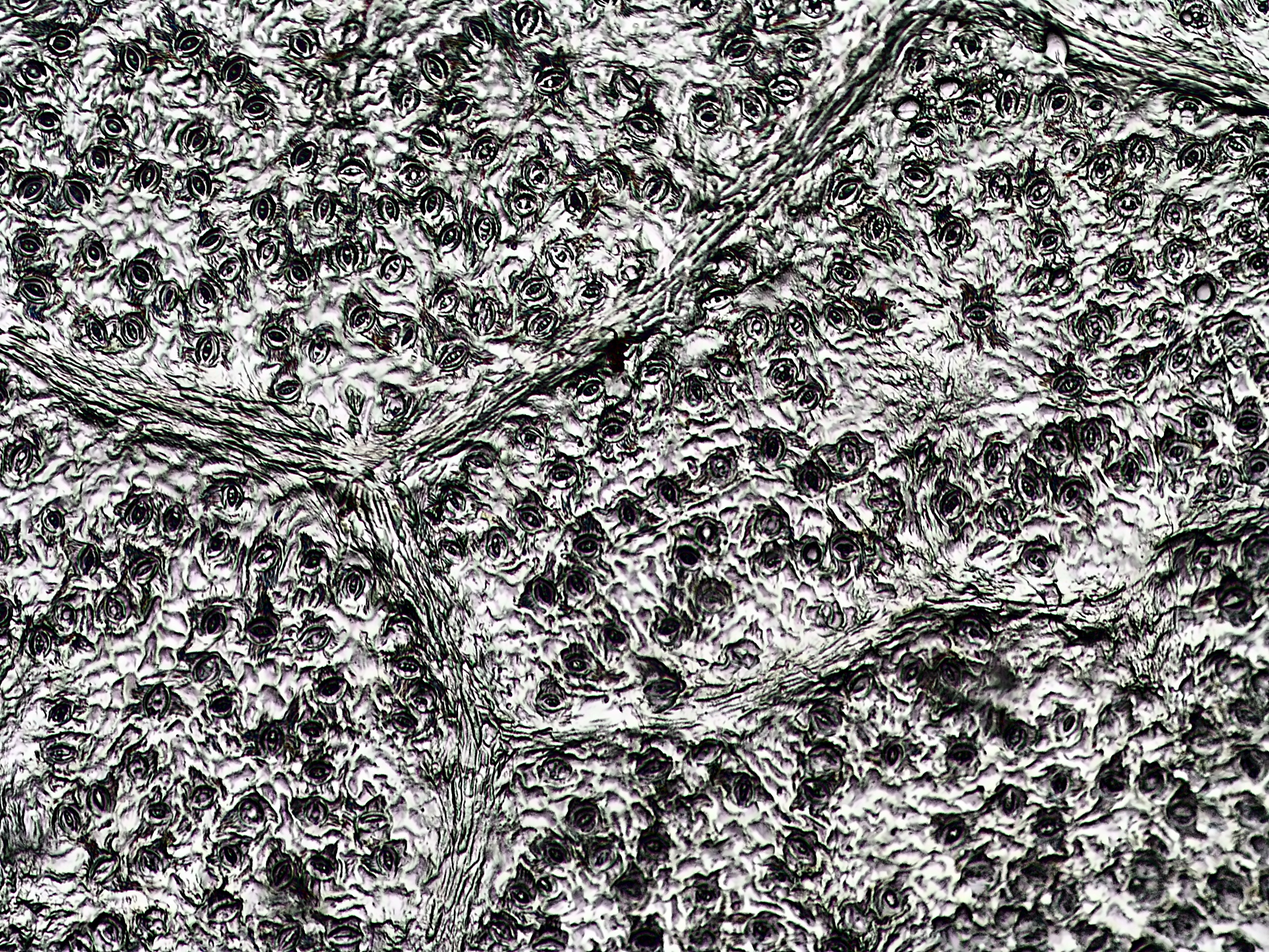stomata: (814, 172, 869, 211), (1179, 722, 1226, 760), (1073, 308, 1120, 345), (1204, 869, 1248, 907), (714, 32, 760, 67), (953, 612, 993, 652), (1176, 0, 1220, 35), (1, 434, 35, 479), (1230, 793, 1269, 832), (1161, 796, 1201, 834), (1018, 545, 1059, 581), (1236, 745, 1269, 787), (1156, 194, 1191, 233), (12, 172, 51, 207), (1096, 760, 1127, 804), (482, 915, 522, 948), (416, 53, 456, 86), (804, 702, 845, 734), (1166, 92, 1211, 121), (531, 64, 573, 95), (459, 14, 495, 50), (858, 211, 893, 248), (1025, 173, 1062, 208), (767, 71, 805, 105), (621, 108, 659, 142), (1011, 467, 1046, 503), (58, 177, 94, 212), (754, 429, 788, 466), (336, 567, 370, 604), (16, 274, 53, 308), (835, 902, 873, 935), (808, 742, 847, 774), (827, 259, 870, 288), (630, 749, 673, 778), (503, 190, 547, 218), (607, 874, 648, 904), (8, 231, 49, 261), (736, 90, 771, 125), (245, 192, 280, 227), (216, 52, 251, 87), (524, 308, 560, 342), (1041, 584, 1079, 616), (958, 858, 996, 890), (946, 96, 985, 127), (1137, 762, 1168, 801), (694, 577, 728, 612), (688, 98, 723, 132), (512, 1, 546, 36), (609, 66, 642, 102), (1164, 240, 1196, 277), (594, 157, 624, 196), (639, 173, 672, 208), (781, 833, 817, 865), (1012, 919, 1053, 947), (1087, 152, 1118, 189), (825, 533, 863, 563), (332, 237, 362, 275), (941, 742, 980, 771), (468, 296, 497, 335), (779, 308, 812, 342), (1041, 84, 1074, 118), (1039, 423, 1071, 458), (1119, 453, 1151, 488), (706, 354, 741, 386), (99, 592, 134, 624), (797, 460, 828, 496), (1048, 370, 1089, 397), (619, 928, 665, 952), (1072, 418, 1105, 451), (1053, 480, 1088, 511), (1217, 583, 1248, 618), (1127, 136, 1157, 172), (1239, 533, 1269, 569), (959, 300, 996, 329), (898, 160, 935, 189), (309, 187, 338, 224), (133, 158, 162, 195), (900, 120, 941, 146), (471, 210, 499, 248), (1216, 653, 1248, 686), (122, 495, 155, 527), (466, 133, 499, 165), (393, 83, 425, 116), (741, 311, 772, 345), (270, 373, 304, 404), (459, 450, 498, 477), (723, 640, 762, 667), (184, 169, 214, 204), (1046, 268, 1082, 297), (118, 41, 147, 77), (242, 619, 282, 645), (411, 127, 448, 155), (78, 238, 110, 270), (434, 341, 467, 372), (565, 802, 599, 832), (836, 438, 865, 473), (705, 453, 740, 482), (979, 442, 1008, 477), (593, 416, 632, 442), (632, 357, 671, 383), (994, 83, 1022, 119), (742, 920, 784, 944), (333, 158, 373, 183), (238, 95, 275, 122), (1229, 700, 1261, 731), (933, 816, 965, 847), (586, 841, 618, 872), (844, 670, 877, 700), (286, 28, 316, 61), (124, 259, 157, 289), (173, 28, 206, 58), (640, 678, 683, 701), (1109, 189, 1147, 215), (783, 35, 821, 61), (282, 260, 316, 289), (44, 28, 78, 57), (1176, 141, 1204, 176), (1127, 856, 1162, 884), (727, 773, 755, 808), (296, 626, 331, 654), (16, 58, 51, 86), (1053, 707, 1080, 743), (996, 784, 1023, 820), (871, 885, 907, 912), (562, 184, 588, 221), (946, 907, 977, 938), (371, 846, 402, 877), (1114, 359, 1146, 389), (522, 157, 552, 189), (545, 240, 577, 270), (347, 305, 377, 337), (128, 555, 161, 584), (206, 894, 239, 923), (267, 856, 295, 890), (391, 319, 419, 353), (697, 285, 735, 310), (528, 927, 566, 952), (144, 683, 171, 718), (118, 313, 145, 348), (692, 519, 722, 550), (435, 486, 466, 516), (955, 31, 986, 61), (482, 530, 511, 562), (984, 171, 1013, 203), (375, 193, 404, 225), (83, 144, 112, 176), (680, 377, 713, 405), (937, 489, 965, 522), (1188, 278, 1221, 306), (257, 723, 285, 756), (755, 508, 785, 538), (1188, 544, 1218, 574), (687, 738, 723, 763), (198, 606, 228, 636), (530, 577, 559, 608), (135, 846, 166, 875), (86, 853, 117, 882), (429, 287, 458, 318), (840, 136, 872, 164), (1002, 720, 1030, 752), (296, 545, 324, 577), (190, 276, 218, 308), (195, 227, 227, 255), (514, 507, 547, 534), (1222, 132, 1255, 159), (440, 97, 473, 124), (305, 333, 332, 366), (84, 316, 111, 349), (542, 463, 579, 487), (636, 831, 670, 857), (1059, 134, 1084, 169), (258, 322, 293, 347), (193, 331, 218, 366), (959, 708, 982, 746), (1231, 407, 1261, 436), (689, 880, 719, 909), (288, 140, 317, 170), (860, 307, 891, 335), (246, 543, 277, 571), (55, 806, 83, 837), (794, 538, 821, 570), (390, 654, 422, 681), (396, 160, 428, 187), (154, 280, 181, 312), (1160, 440, 1193, 466), (797, 777, 831, 802), (313, 677, 347, 702), (253, 236, 278, 270), (382, 391, 411, 420), (768, 357, 796, 387), (936, 223, 966, 251), (300, 759, 335, 783), (297, 75, 327, 103), (821, 303, 852, 330), (379, 253, 406, 284), (1047, 769, 1073, 801), (795, 0, 838, 19), (792, 385, 821, 413), (1031, 810, 1060, 838), (183, 124, 211, 153), (991, 500, 1018, 530), (416, 502, 443, 532), (1081, 925, 1111, 952), (96, 916, 123, 946), (417, 188, 444, 218), (935, 73, 966, 99), (1079, 92, 1110, 118), (75, 542, 99, 575), (614, 499, 642, 527), (236, 798, 264, 826), (192, 653, 219, 682), (908, 437, 934, 467), (355, 812, 392, 833), (87, 784, 112, 815), (900, 658, 924, 690), (437, 222, 461, 254), (518, 276, 551, 299), (217, 842, 245, 869), (123, 753, 150, 781), (656, 479, 682, 508), (600, 624, 629, 650), (99, 113, 128, 139), (651, 617, 681, 642), (571, 533, 601, 558), (907, 50, 932, 80), (503, 881, 533, 906), (406, 685, 436, 710), (937, 657, 961, 688), (865, 493, 904, 512), (30, 110, 62, 133), (560, 653, 595, 674), (577, 279, 605, 305), (753, 552, 786, 574), (992, 904, 1025, 926), (679, 928, 712, 950), (670, 545, 699, 570), (1108, 255, 1137, 280), (516, 425, 546, 449), (574, 378, 604, 402), (28, 628, 52, 658), (881, 740, 903, 772), (42, 743, 79, 762), (215, 254, 243, 279), (41, 505, 65, 534), (204, 692, 234, 715), (327, 927, 363, 946), (304, 855, 335, 877), (540, 839, 566, 865), (563, 570, 588, 597), (1167, 344, 1192, 371), (161, 505, 185, 533), (53, 602, 77, 630), (220, 483, 243, 512), (143, 802, 172, 825), (298, 721, 328, 743), (1224, 348, 1249, 374), (1244, 251, 1269, 277), (1055, 889, 1079, 916), (46, 701, 73, 725), (894, 97, 922, 120), (1033, 229, 1061, 252), (1245, 453, 1268, 481), (188, 785, 217, 807), (1185, 409, 1215, 430), (205, 532, 231, 556), (437, 540, 465, 562), (534, 693, 568, 711), (277, 925, 300, 951), (1014, 154, 1031, 189), (1211, 464, 1232, 491), (534, 874, 558, 897), (304, 800, 327, 824), (1247, 161, 1269, 186), (199, 865, 224, 887), (1231, 220, 1257, 241), (1224, 318, 1249, 338), (1199, 336, 1218, 361), (1149, 304, 1169, 326), (391, 712, 415, 730), (681, 456, 700, 478), (1255, 195, 1269, 212)
